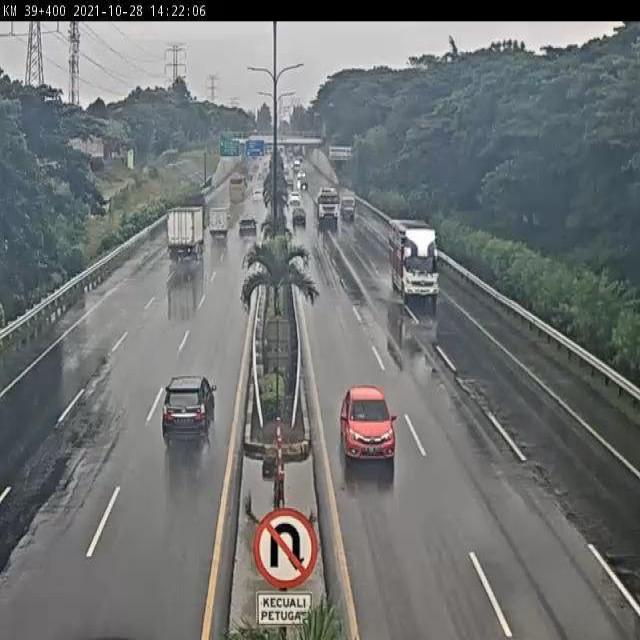car: (340, 383, 397, 468), (236, 215, 259, 241)
truck-l-: (383, 219, 444, 309), (166, 204, 206, 260)
truck-s-: (205, 207, 231, 240)
truck-xl-: (313, 187, 341, 230)
